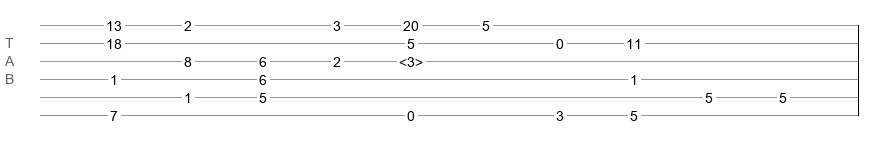0: (407, 108, 415, 118), (556, 36, 564, 46)
1: (110, 72, 118, 82), (184, 90, 192, 100), (630, 72, 638, 82)
11: (626, 36, 642, 46)
13: (106, 18, 122, 28)
18: (106, 36, 122, 46)
2: (184, 18, 192, 28), (333, 54, 341, 64)
20: (403, 18, 419, 28)
3: (333, 18, 341, 28), (556, 108, 564, 118)
5: (259, 90, 267, 100), (407, 36, 415, 46), (482, 18, 490, 28), (630, 108, 638, 118), (705, 90, 713, 100), (779, 90, 787, 100)
6: (259, 72, 267, 82), (259, 54, 267, 64)
7: (110, 108, 118, 118)
8: (184, 54, 192, 64)
harmonic: (399, 54, 423, 64)
